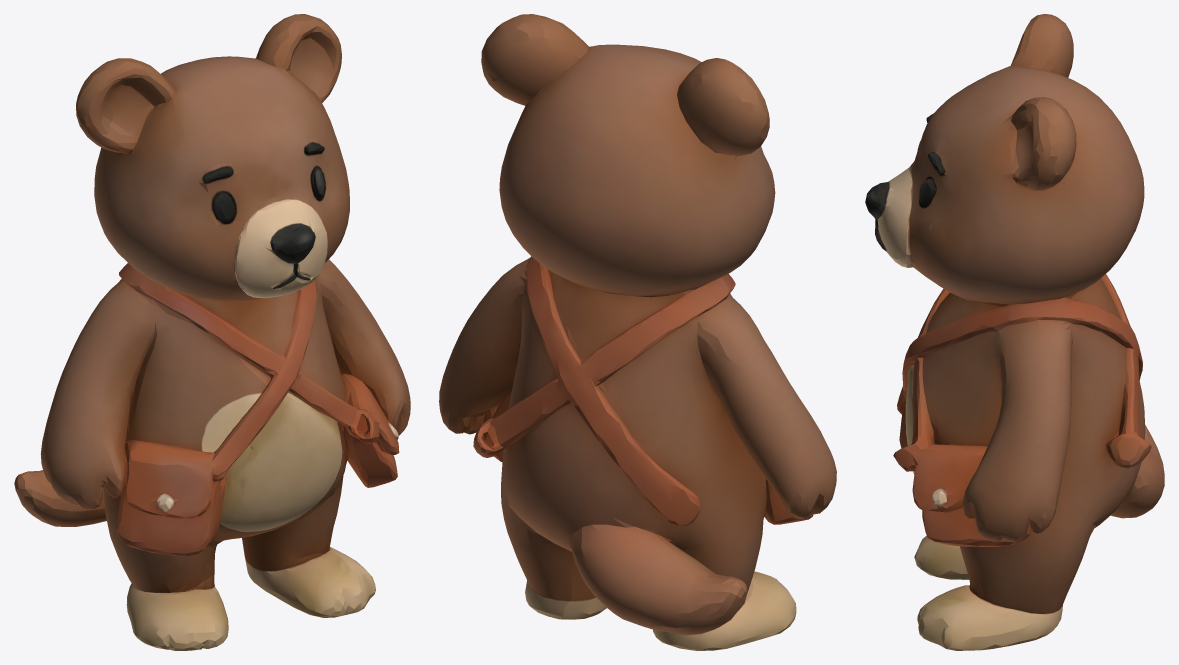
The model's file is base_basic_pbr.glb.
3 views of the same model, side by side, from view 1: azimuth 30°, elevation 25°; view 2: azimuth 150°, elevation 25°; view 3: azimuth 270°, elevation 25° (orthographic). The views are drawn at different scales.
Parts seen in each view (by area): view 1: Mesh; view 2: Mesh; view 3: Mesh.
Part boxes in pixels (x1,y1,x2,y2): Mesh: [14, 14, 410, 650]; Mesh: [439, 14, 836, 650]; Mesh: [865, 14, 1164, 650].
Size of the model in its own units: 1.27 by 1.9 by 0.9559.
1 material, 1 textured.
